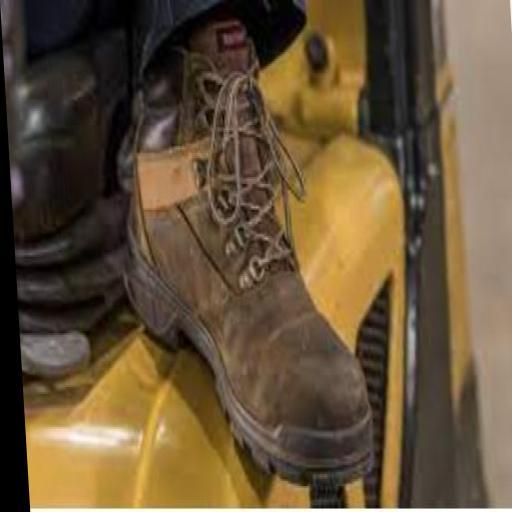safety_boots: (104, 73, 376, 485)
